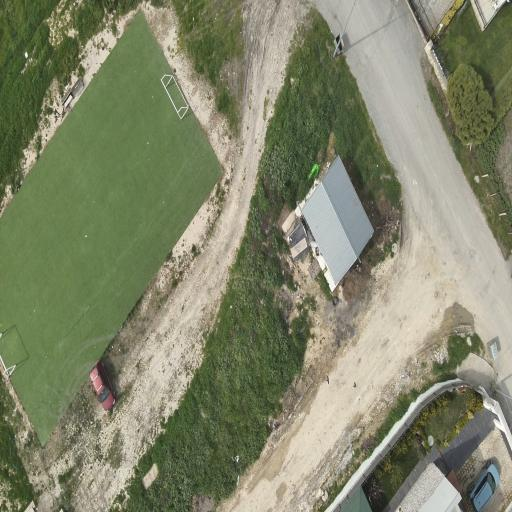car: (470, 462, 499, 511), (90, 361, 115, 411)
